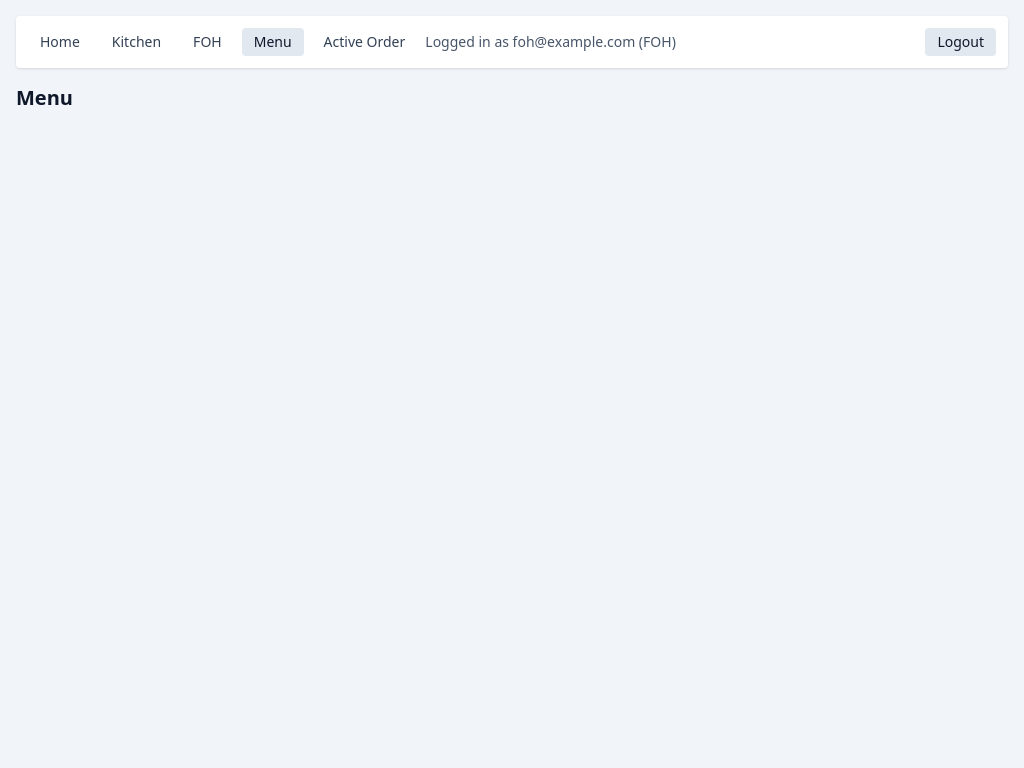
Scenario: Phase 10 routing and online behavior › shows Active Order nav link for foh users and returns to /online from menu
Click the link "Active Order": {"x": 364, "y": 42} 324,32 -> 405,51
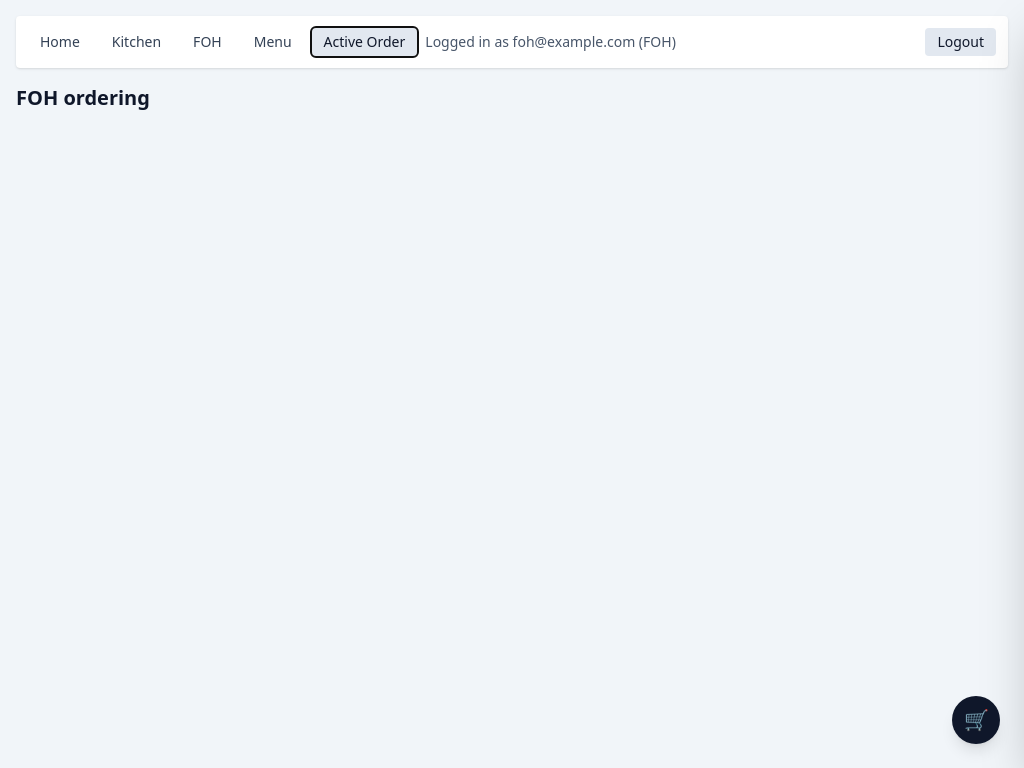
Expected: the heading "FOH ordering" is shown, 16,84 -> 150,111
